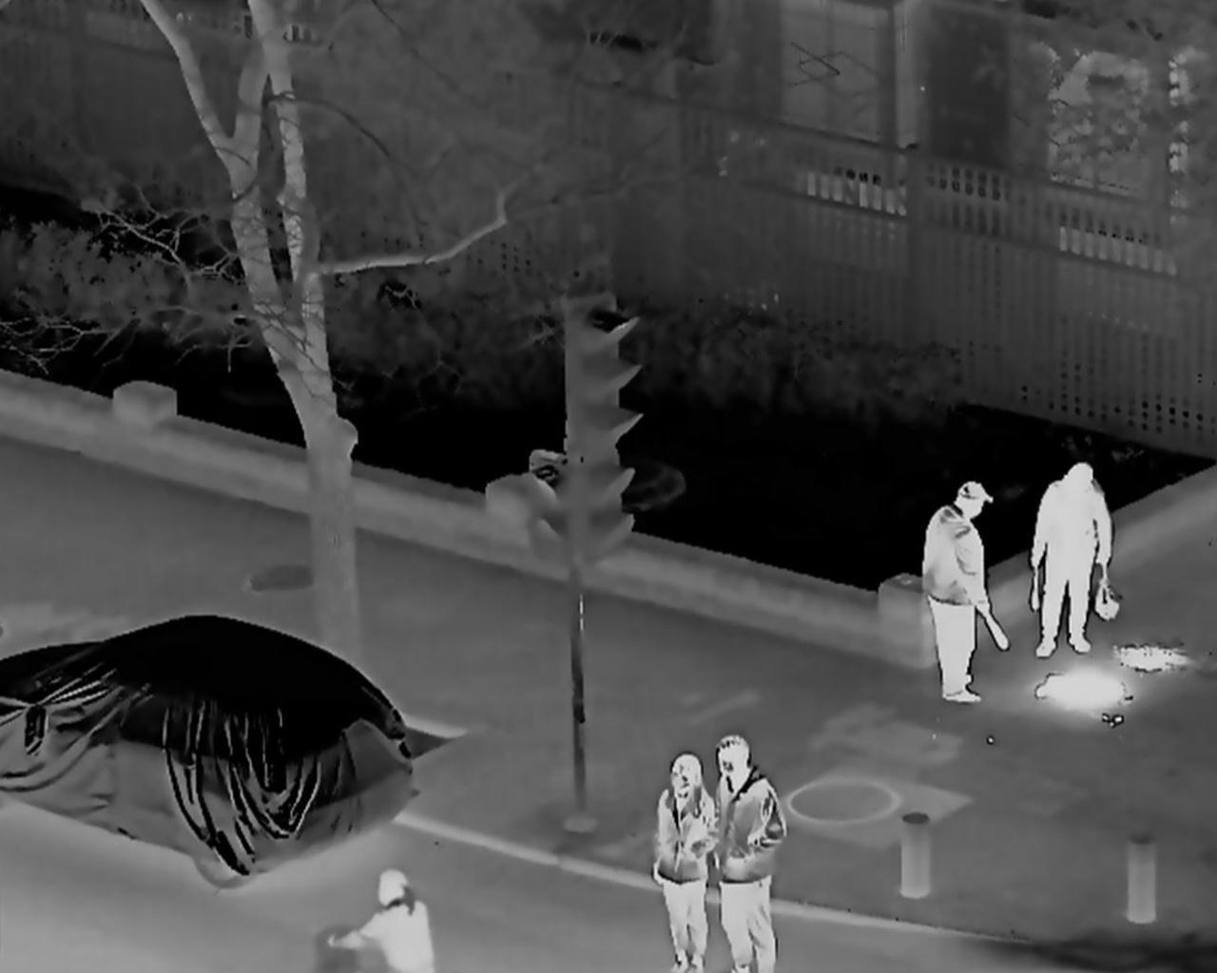person: (705, 736, 784, 973), (924, 484, 1000, 697), (1033, 464, 1114, 662), (654, 754, 717, 973), (325, 862, 433, 973)
